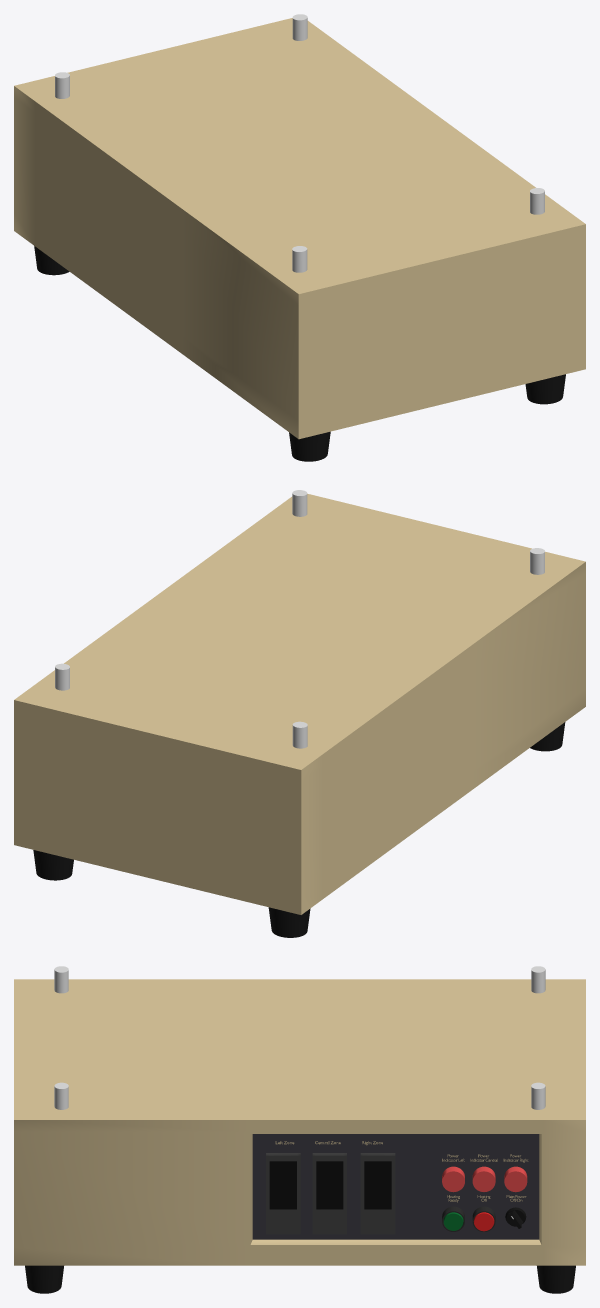
3 views of the same model, one above another, from view 1: azimuth 30°, elevation 25°; view 2: azimuth 150°, elevation 25°; view 3: azimuth 270°, elevation 25° (orthographic).
Visible parts, largest first — view 1: Base; view 2: Base; view 3: Base.
Part boxes in pixels (left/top/right/bottom): Base: left=14, top=14, right=585, bottom=461; Base: left=14, top=490, right=585, bottom=937; Base: left=14, top=966, right=585, bottom=1293.
Size of the model in its own units: 43.84 by 28.89 by 74.7.
